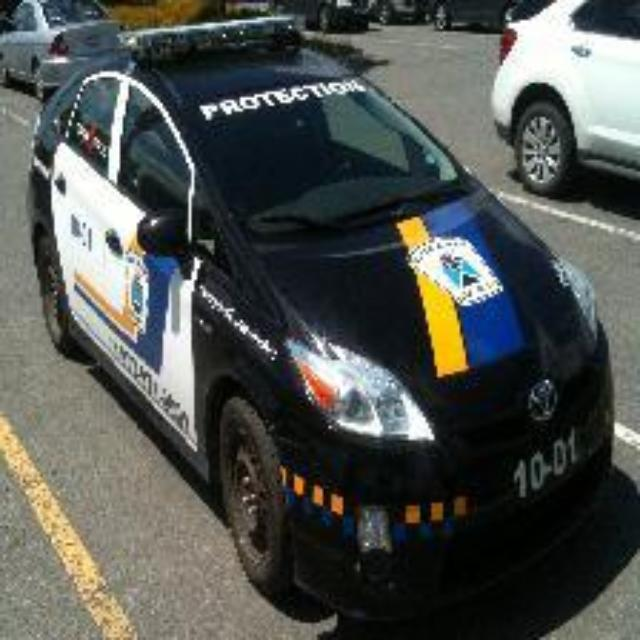emergency: (32, 0, 600, 598)
